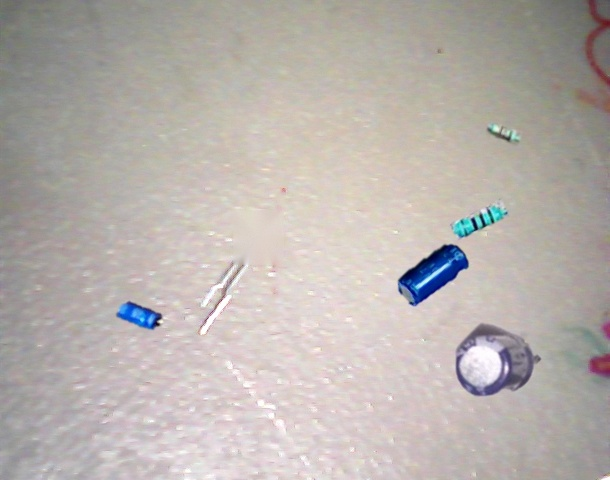capacitor: (455, 323, 542, 397), (397, 244, 469, 307), (116, 301, 164, 330)
resistor: (450, 199, 509, 240), (485, 121, 522, 146)
